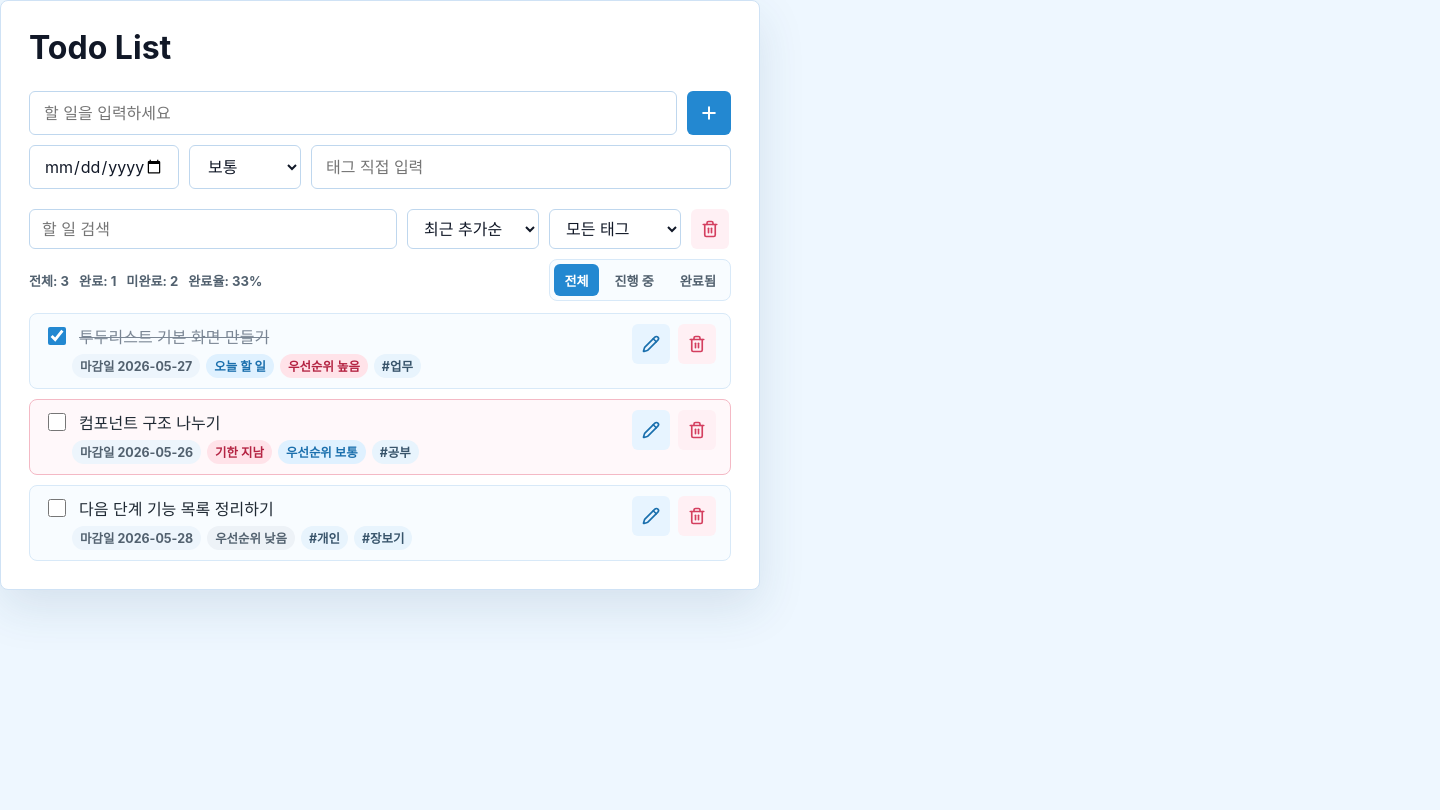
Test case: TodoApp › 완료된 항목을 한 번에 삭제할 수 있다.
The width and height of the screenshot is (1440, 810).
Click the button named "완료 전체 삭제" at (710, 229), box [691, 209, 729, 249]
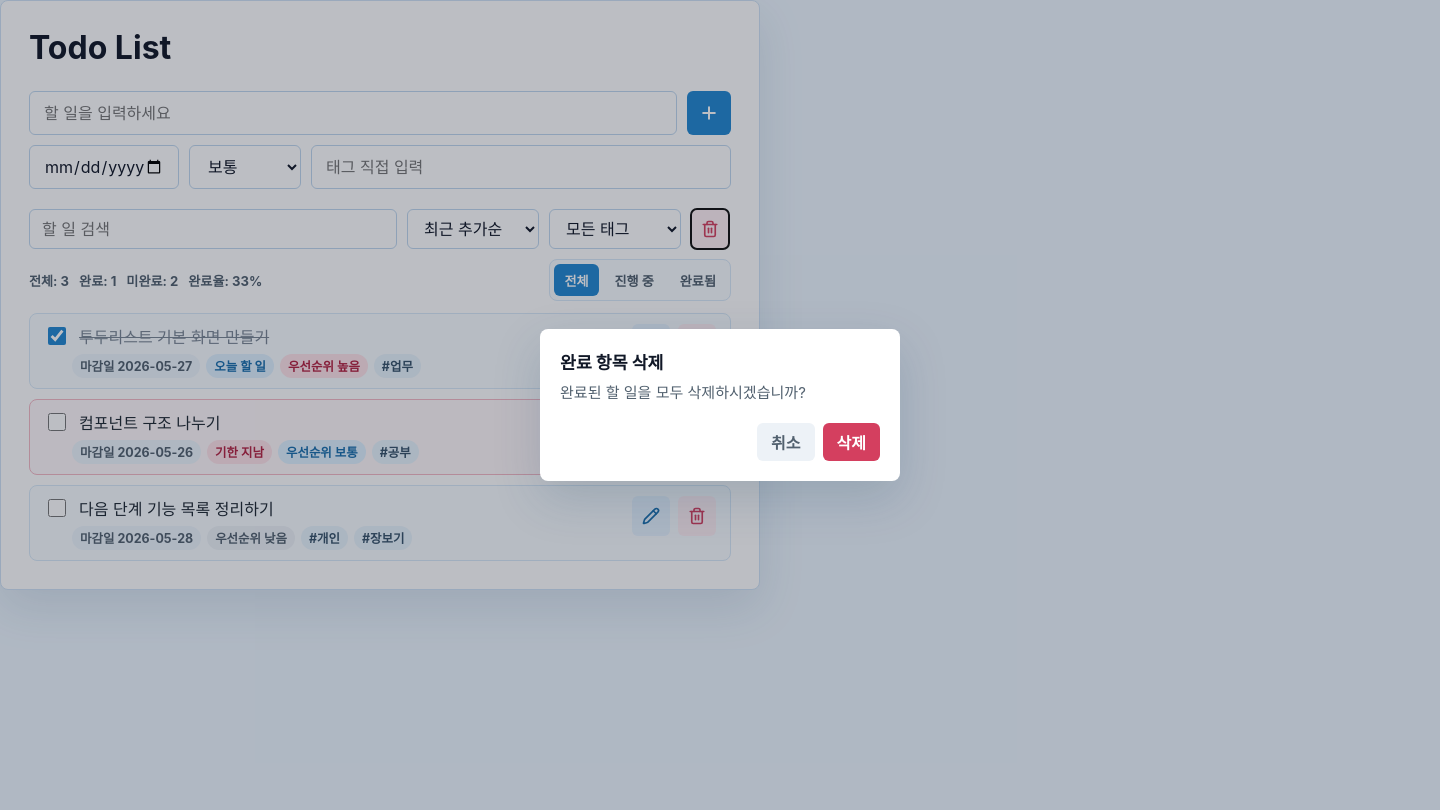
Expected: the text "투두리스트 기본 화면 만들기" is shown, [79, 324, 269, 348]
Result: the dialog "완료 항목 삭제" is shown at [540, 329, 900, 481]
Click the button "삭제" at (851, 442), box [822, 423, 880, 461]
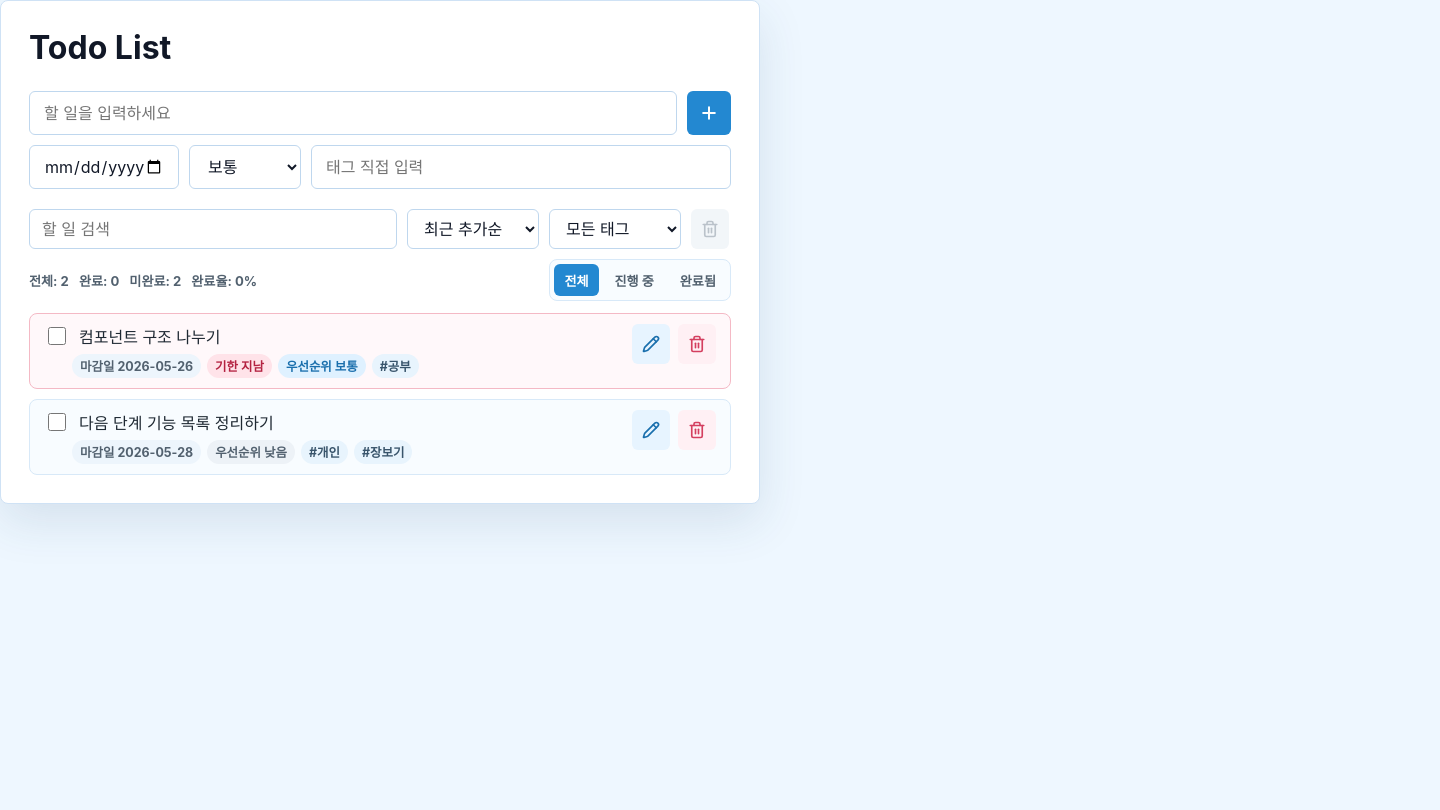
Result: the text "투두리스트 기본 화면 만들기" is gone
Result: the text named "전체 할 일 수 2" is shown at [29, 271, 69, 290]
Result: the text named "완료 개수 0" is shown at [79, 271, 119, 290]
